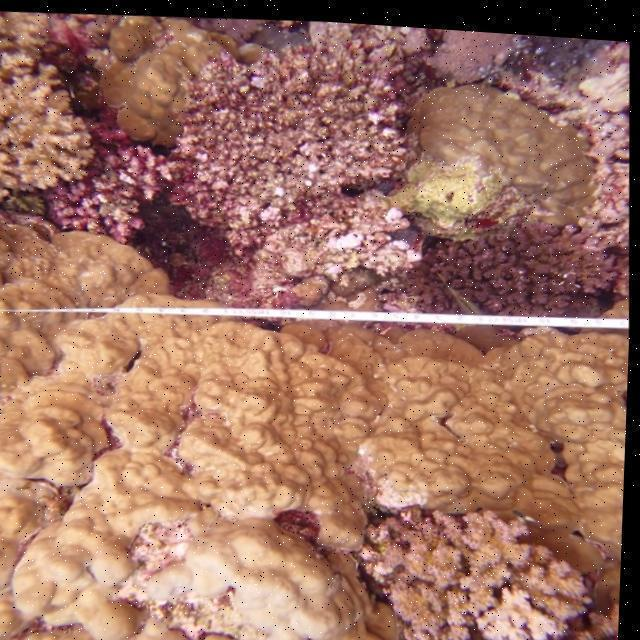Healthy Coral: (171, 41, 425, 296), (390, 85, 593, 236), (46, 130, 164, 243)
